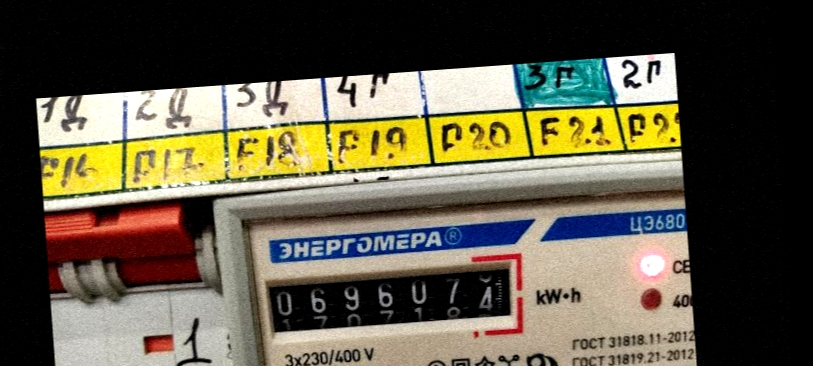0: (274, 289, 297, 318), (411, 276, 431, 306), (310, 286, 329, 313)
4: (477, 284, 496, 314)
6: (376, 279, 396, 310)
7: (444, 275, 464, 305)
9: (343, 283, 363, 312)
screen: (252, 249, 531, 352)
